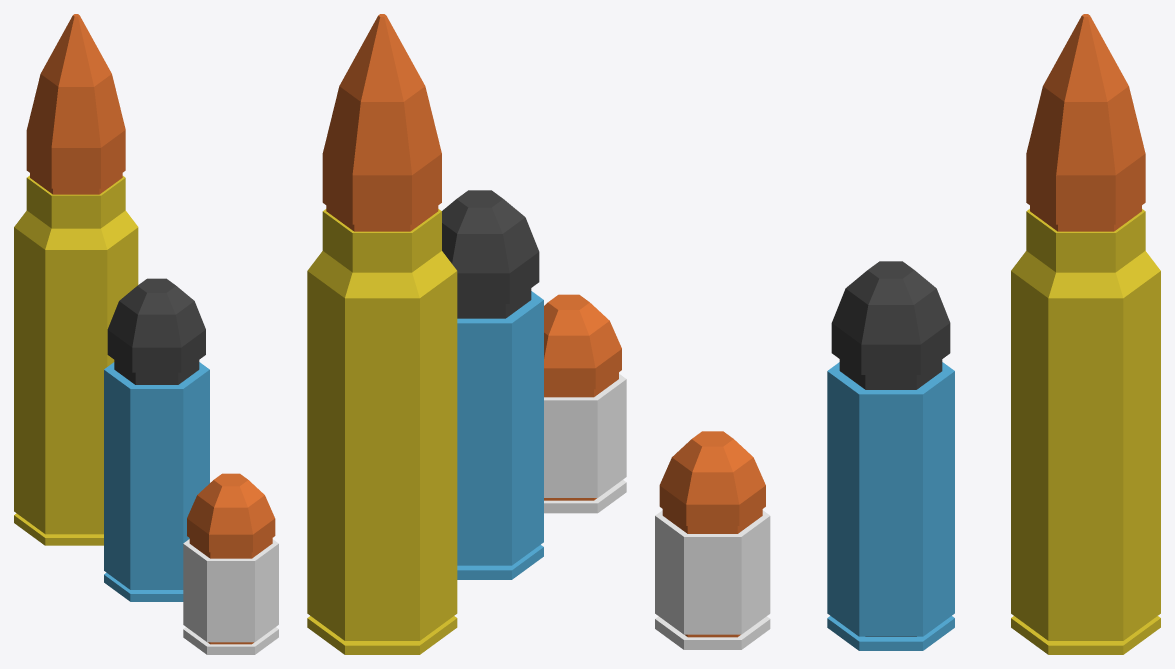
The model's file is bullets.fbx.
3 views of the same model, side by side, from view 1: azimuth 30°, elevation 25°; view 2: azimuth 150°, elevation 25°; view 3: azimuth 270°, elevation 25° (orthographic). The views are drawn at different scales.
Parts seen in each view (by area): view 1: Large, Medium, Small; view 2: Large, Medium, Small; view 3: Large, Medium, Small.
Boxes of the visible parts, bbox=[...] form: Large: bbox=[14, 14, 138, 545]; Medium: bbox=[104, 278, 209, 601]; Small: bbox=[183, 473, 278, 654]; Large: bbox=[307, 14, 457, 654]; Medium: bbox=[442, 190, 543, 579]; Small: bbox=[544, 294, 626, 513]; Large: bbox=[1011, 14, 1160, 654]; Medium: bbox=[827, 261, 954, 650]; Small: bbox=[655, 431, 770, 649].
Size of the model in its own units: 0.2353 by 0.0604 by 0.3149.
